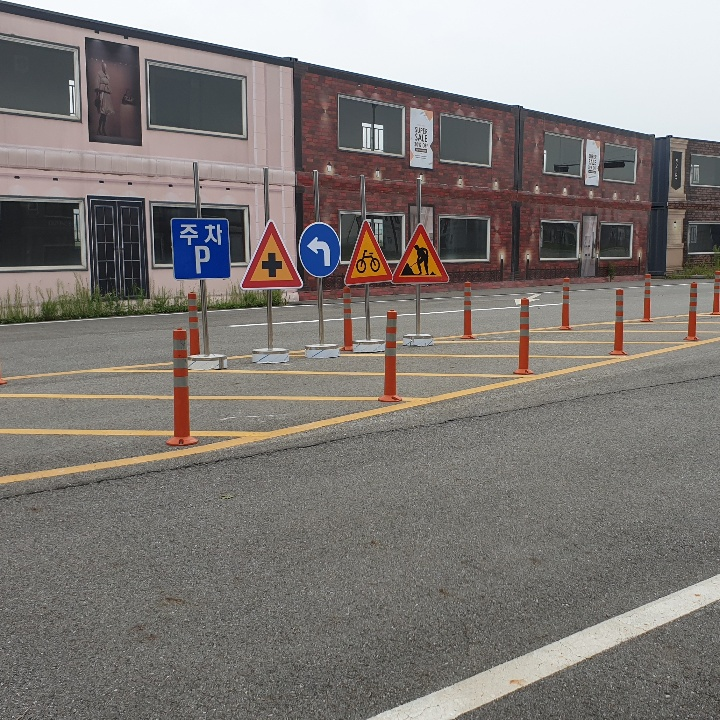bicycle: (349, 219, 391, 284)
const: (399, 240, 440, 278)
inter: (258, 246, 285, 283)
